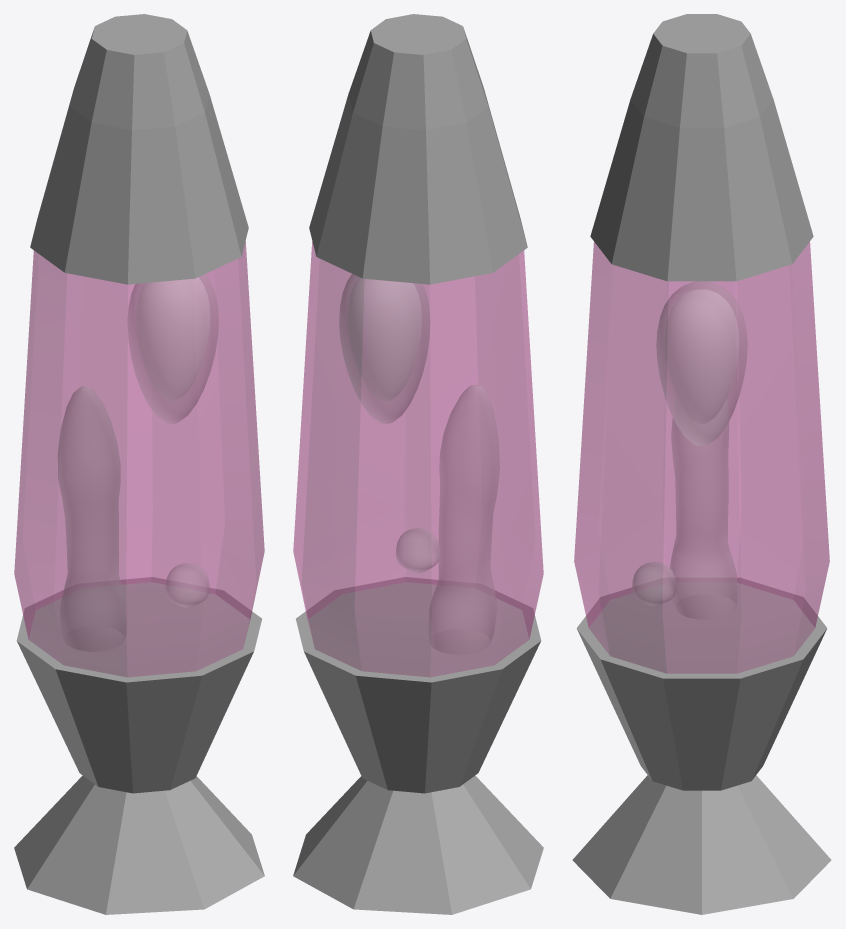
Rendered from Lava Lamp 1.fbx.
The picture shows the model from 3 angles, left to right: view 1: azimuth 30°, elevation 25°; view 2: azimuth 150°, elevation 25°; view 3: azimuth 270°, elevation 25°; orthographic projection.
Parts seen in each view (by area): view 1: Cylinder.045, Cylinder.057, Cylinder.041, Cone, Sphere.002, Sphere, Sphere.003, Sphere.001; view 2: Cylinder.045, Cylinder.057, Cylinder.041, Cone, Sphere.002, Sphere, Sphere.003, Sphere.001; view 3: Cylinder.045, Cylinder.057, Cylinder.041, Cone, Sphere, Sphere.002, Sphere.003, Sphere.001.
Boxes of the visible parts, x1,y1,x2,y2 form: Cylinder.045: (14, 241, 264, 676); Cylinder.057: (30, 14, 248, 284); Cylinder.041: (16, 577, 261, 793); Cone: (14, 775, 264, 914); Sphere.002: (58, 386, 127, 651); Sphere: (128, 274, 218, 423); Sphere.003: (136, 277, 210, 400); Sphere.001: (165, 563, 209, 607); Cylinder.045: (293, 241, 543, 676); Cylinder.057: (309, 14, 527, 284); Cylinder.041: (296, 577, 541, 793); Cone: (293, 775, 543, 914); Sphere.002: (428, 385, 499, 654); Sphere: (339, 274, 429, 423); Sphere.003: (347, 277, 421, 400); Sphere.001: (396, 528, 438, 572); Cylinder.045: (574, 242, 829, 673); Cylinder.057: (590, 14, 813, 281); Cylinder.041: (576, 578, 827, 790); Cone: (572, 775, 831, 914); Sphere: (656, 281, 747, 445); Sphere.002: (670, 418, 737, 619); Sphere.003: (665, 289, 738, 423); Sphere.001: (632, 562, 676, 605).
Size of the model in its own units: 12.94 by 45.47 by 12.94.
